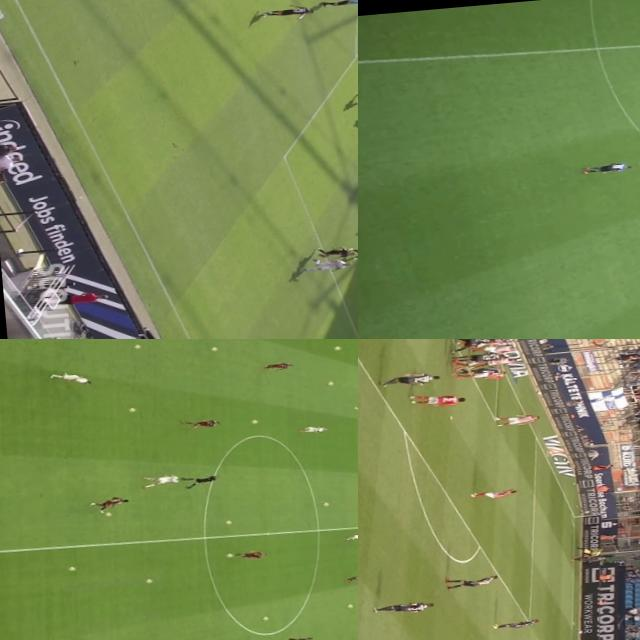ball: (142, 578, 151, 586), (222, 520, 233, 524), (64, 566, 74, 570), (252, 418, 258, 424), (105, 512, 112, 517), (322, 501, 329, 506), (326, 381, 333, 386), (262, 616, 270, 620), (210, 346, 218, 350), (128, 408, 136, 412), (334, 346, 342, 350), (134, 344, 140, 349), (348, 604, 352, 608)
player: (373, 598, 432, 616), (257, 4, 314, 21), (410, 392, 468, 408), (446, 573, 500, 590), (384, 372, 438, 388), (299, 258, 352, 274), (466, 486, 516, 500), (47, 371, 88, 388), (585, 161, 632, 175), (496, 412, 539, 427), (473, 353, 516, 368), (90, 496, 128, 512), (307, 246, 354, 258), (489, 618, 536, 630), (446, 339, 489, 352), (454, 351, 499, 363), (144, 474, 182, 488), (455, 370, 505, 380), (457, 366, 501, 376), (181, 418, 218, 429), (478, 344, 516, 354), (233, 550, 265, 560), (567, 554, 601, 562), (262, 362, 290, 370), (301, 425, 325, 433), (273, 636, 312, 640), (348, 248, 358, 261), (345, 532, 358, 540), (347, 574, 358, 582)
